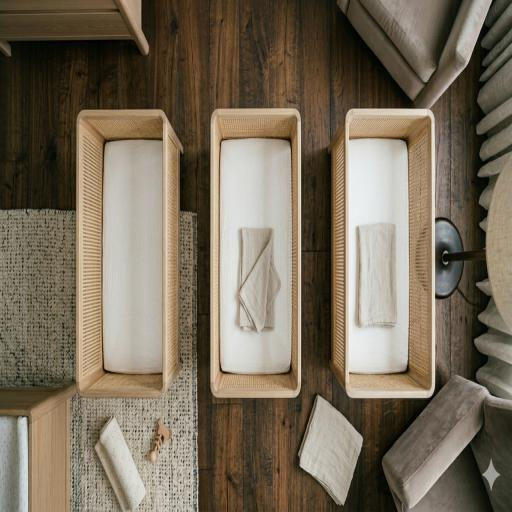crib: (76, 110, 182, 397), (329, 110, 434, 397), (211, 109, 301, 397)
